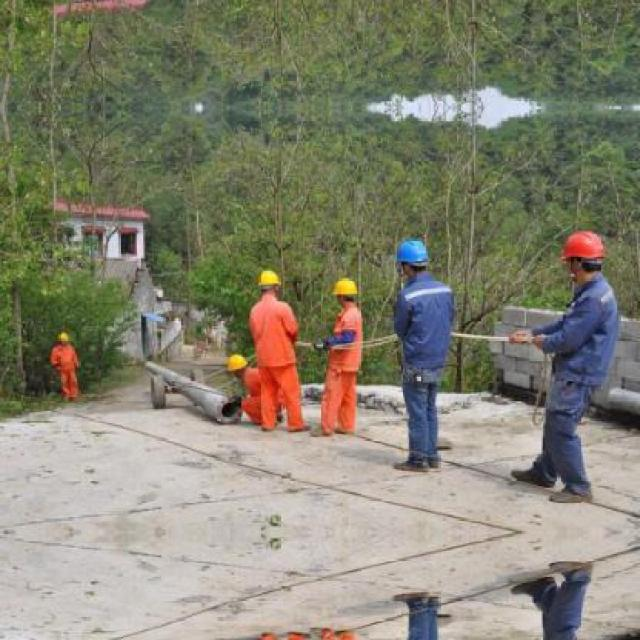Reflective-Jacket: (245, 297, 303, 374), (318, 308, 369, 382)
Safety-Helmet: (550, 223, 616, 269), (385, 232, 437, 276), (320, 611, 368, 640), (249, 263, 288, 297), (328, 270, 364, 304), (218, 349, 251, 377), (54, 332, 72, 346)
